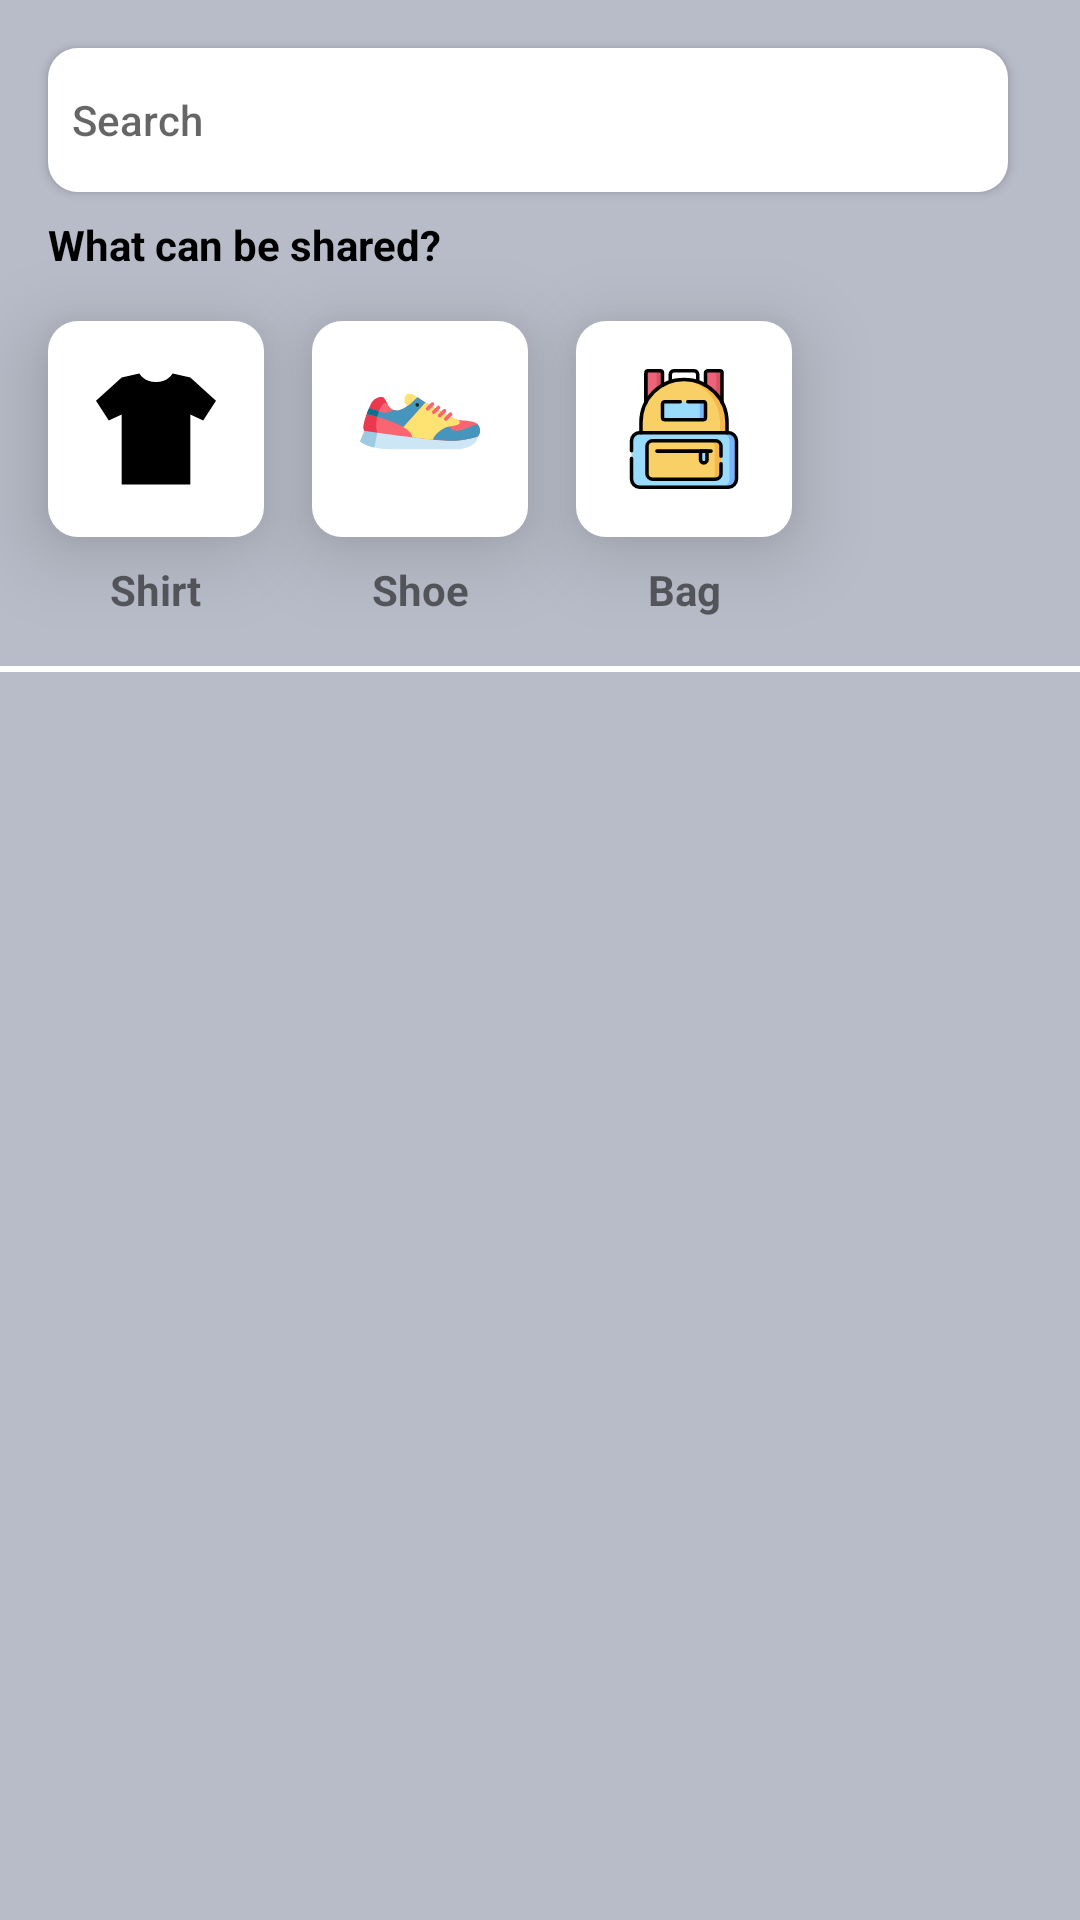

Icons on this 1080x1920 Android screen, each with the point to tap as point (x, y):
sneakers: point (420, 429)
